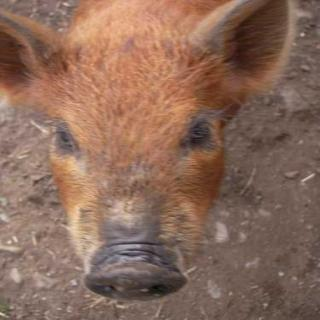Pig: (6, 16, 275, 320)
